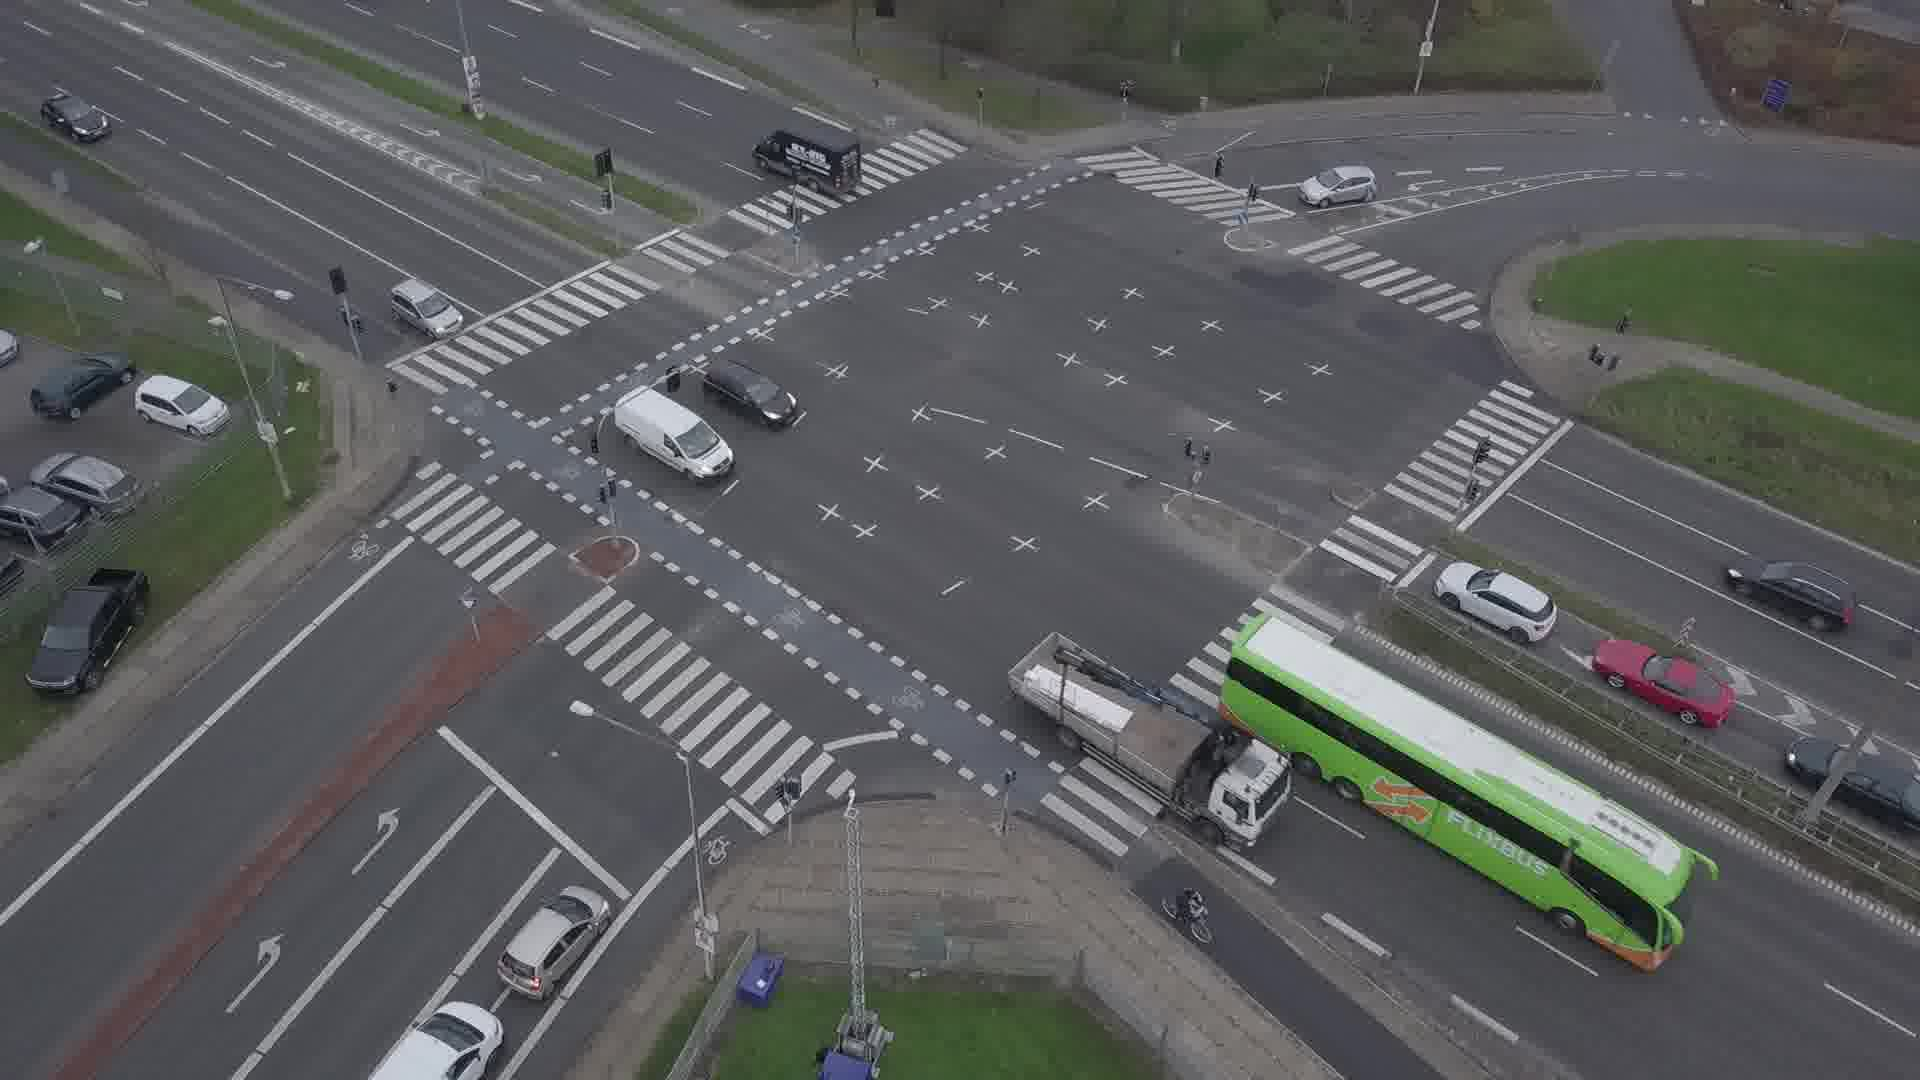bicycle: (1161, 884, 1212, 945)
bus: (1220, 612, 1720, 971)
car: (496, 884, 613, 1003), (1593, 637, 1737, 727), (1786, 735, 1920, 827), (363, 1001, 503, 1080), (1723, 553, 1857, 635), (1434, 561, 1557, 642), (706, 361, 797, 429), (390, 278, 465, 341), (1301, 164, 1379, 208), (41, 93, 109, 142)
lorry: (1008, 631, 1292, 853), (614, 384, 733, 480), (752, 120, 866, 197)
